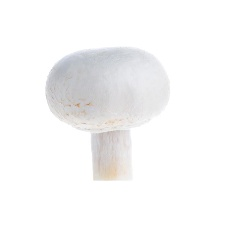mushroom: (46, 43, 174, 182)
